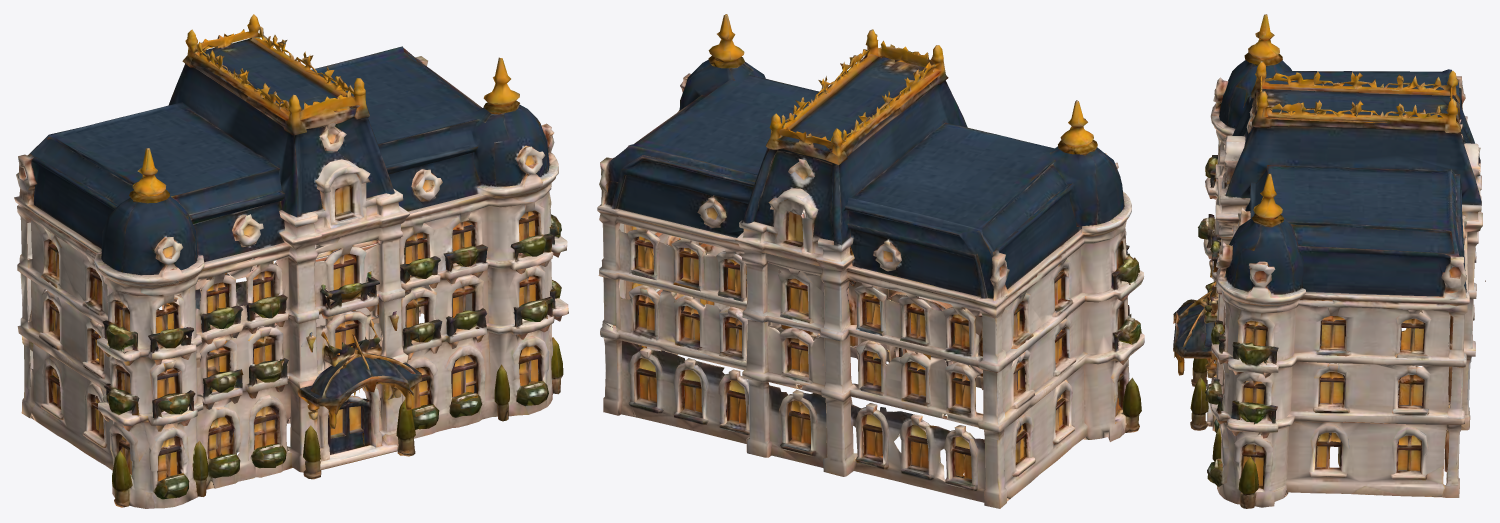
The picture shows the model from 3 angles, left to right: view 1: azimuth 30°, elevation 25°; view 2: azimuth 150°, elevation 25°; view 3: azimuth 270°, elevation 25°; orthographic projection. The views are drawn at different scales.
Parts seen in each view (by area): view 1: classic__skyscraper_3__native_mobile; view 2: classic__skyscraper_3__native_mobile; view 3: classic__skyscraper_3__native_mobile.
Boxes of the visible parts, x1,y1,x2,y2 form: classic__skyscraper_3__native_mobile: (14,14,568,508); classic__skyscraper_3__native_mobile: (597,14,1144,508); classic__skyscraper_3__native_mobile: (1173,14,1485,508).
Size of the model in its own units: 1 by 0.754 by 0.6395.
Materials: 1 (1 with a texture image).
